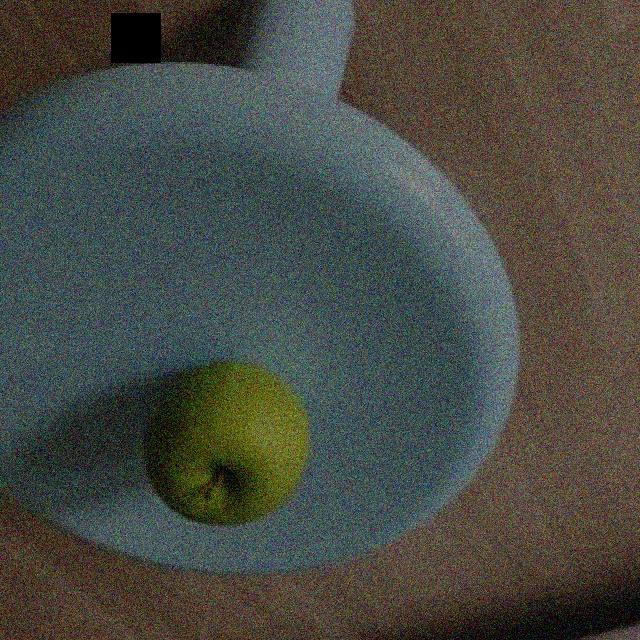green apple: (141, 362, 312, 527)
